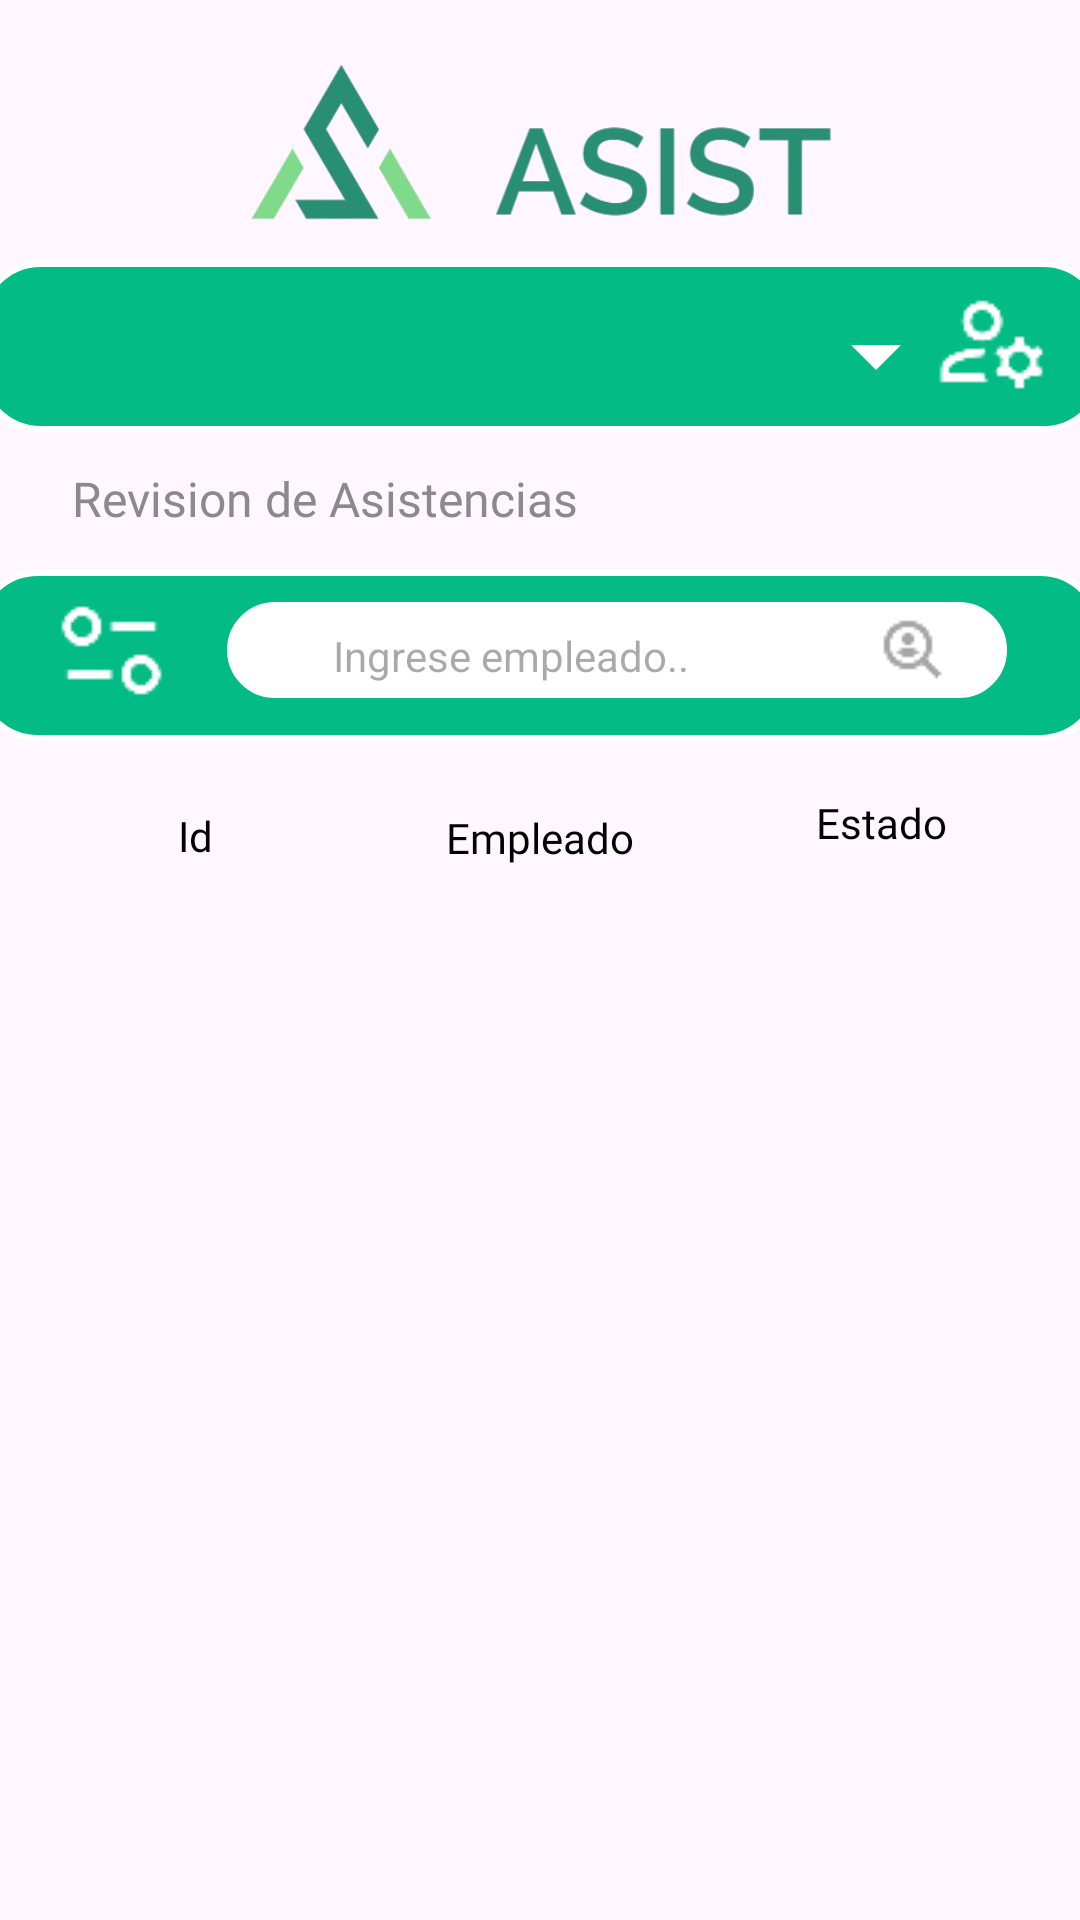

Where to tap for icons on this 1080x1920 app screen, as point (x, y):
arrow drop down: point (876, 357)
filtro: point (111, 650)
lupa: point (911, 650)
